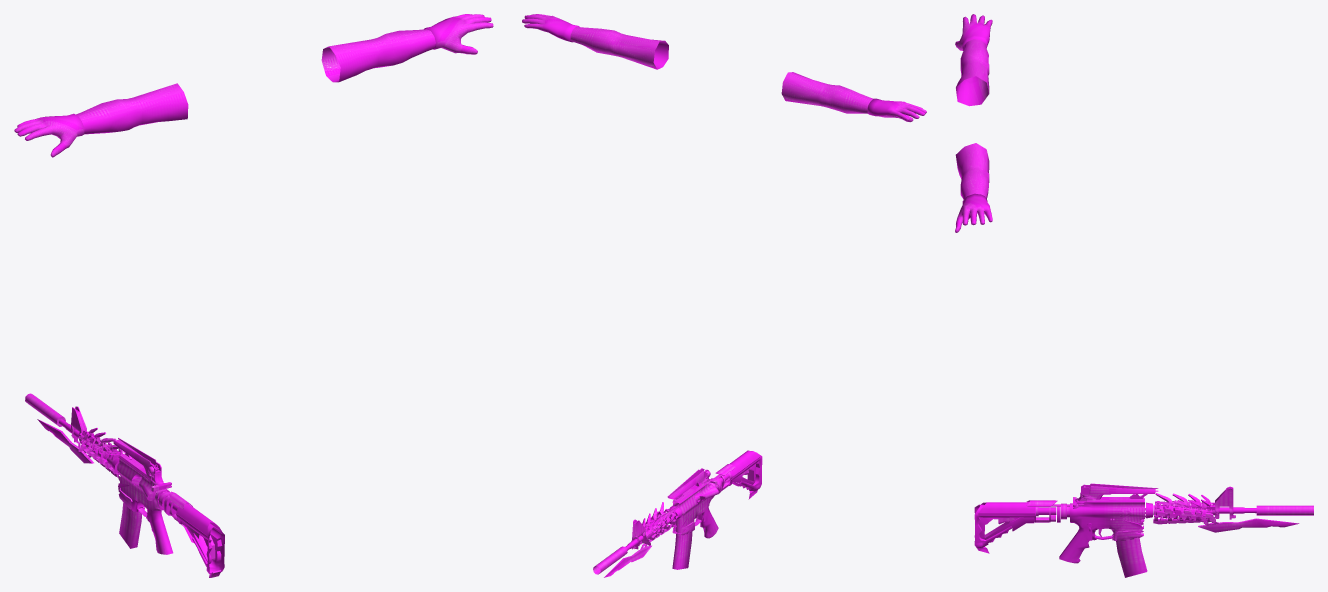
Rendered from PV-M4A1_Silencer_Predator.obj.
3 views of the same model, side by side, from view 1: azimuth 30°, elevation 25°; view 2: azimuth 150°, elevation 25°; view 3: azimuth 270°, elevation 25° (orthographic). The views are drawn at different scales.
Parts seen in each view (by area): view 1: PV-M4A1_Silencer_Predator_Fview-arm2, PV-M4A1_Silencer_Predator_middle01, PV-M4A1_Silencer_Predator_Fview-hand2, PV-M4A1_Silencer_Predator_Object336, PV-M4A1_Silencer_Predator_frontside01, PV-M4A1_Silencer_Predator_Object344; view 2: PV-M4A1_Silencer_Predator_Fview-arm2, PV-M4A1_Silencer_Predator_middle01, PV-M4A1_Silencer_Predator_Fview-hand2, PV-M4A1_Silencer_Predator_Object336, PV-M4A1_Silencer_Predator_frontside01, PV-M4A1_Silencer_Predator_Object344; view 3: PV-M4A1_Silencer_Predator_middle01, PV-M4A1_Silencer_Predator_Fview-arm2, PV-M4A1_Silencer_Predator_Object336, PV-M4A1_Silencer_Predator_frontside01, PV-M4A1_Silencer_Predator_Fview-hand2, PV-M4A1_Silencer_Predator_Object344.
Boxes of the visible parts, x1,y1,x2,y2 form: PV-M4A1_Silencer_Predator_Fview-arm2: [76, 29, 435, 134]; PV-M4A1_Silencer_Predator_middle01: [78, 430, 224, 577]; PV-M4A1_Silencer_Predator_Fview-hand2: [14, 14, 493, 157]; PV-M4A1_Silencer_Predator_Object336: [112, 438, 169, 519]; PV-M4A1_Silencer_Predator_frontside01: [25, 393, 123, 463]; PV-M4A1_Silencer_Predator_Object344: [119, 502, 141, 548]; PV-M4A1_Silencer_Predator_Fview-arm2: [570, 27, 872, 113]; PV-M4A1_Silencer_Predator_middle01: [642, 450, 762, 546]; PV-M4A1_Silencer_Predator_Fview-hand2: [522, 14, 926, 122]; PV-M4A1_Silencer_Predator_Object336: [667, 468, 718, 534]; PV-M4A1_Silencer_Predator_frontside01: [593, 511, 679, 577]; PV-M4A1_Silencer_Predator_Object344: [672, 513, 692, 569]; PV-M4A1_Silencer_Predator_middle01: [974, 494, 1218, 563]; PV-M4A1_Silencer_Predator_Fview-arm2: [955, 39, 989, 199]; PV-M4A1_Silencer_Predator_Object336: [1070, 483, 1158, 540]; PV-M4A1_Silencer_Predator_frontside01: [1156, 486, 1313, 532]; PV-M4A1_Silencer_Predator_Fview-hand2: [955, 14, 992, 232]; PV-M4A1_Silencer_Predator_Object344: [1116, 537, 1147, 577].
Bounding box in the file's own units: 4.17 × 4.5 × 3.03.
21 materials, 21 textured.
